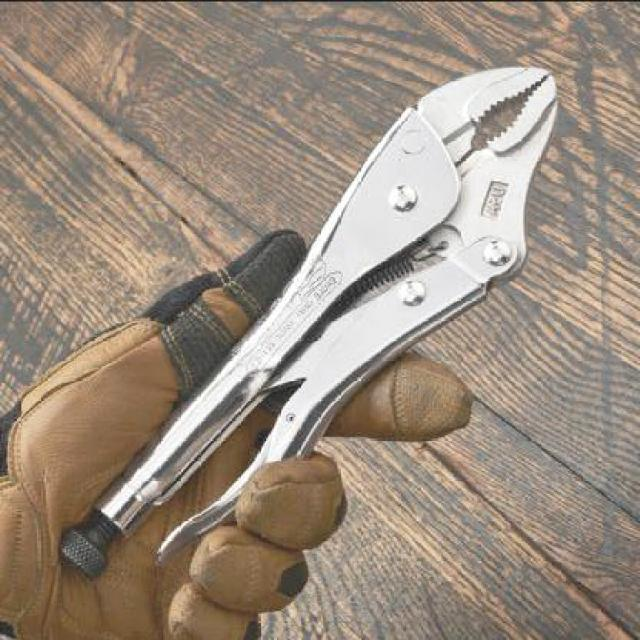pliers: (314, 64, 560, 326)
